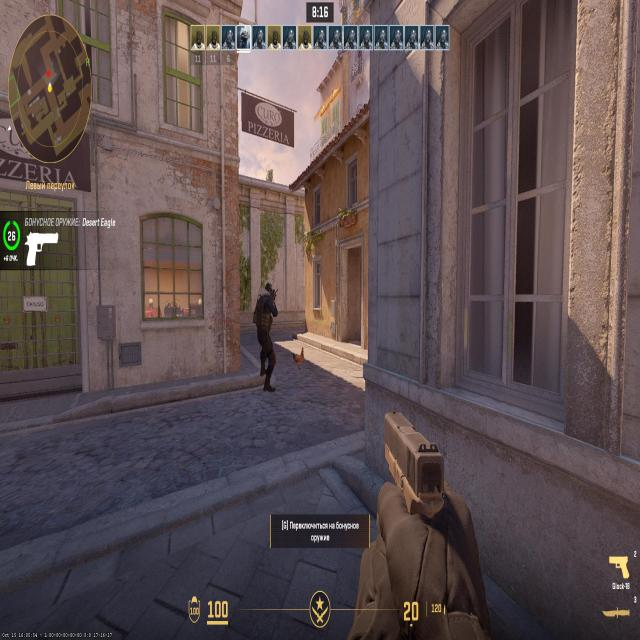CT: (258, 282, 274, 371)
CT_heat: (267, 286, 272, 299)
